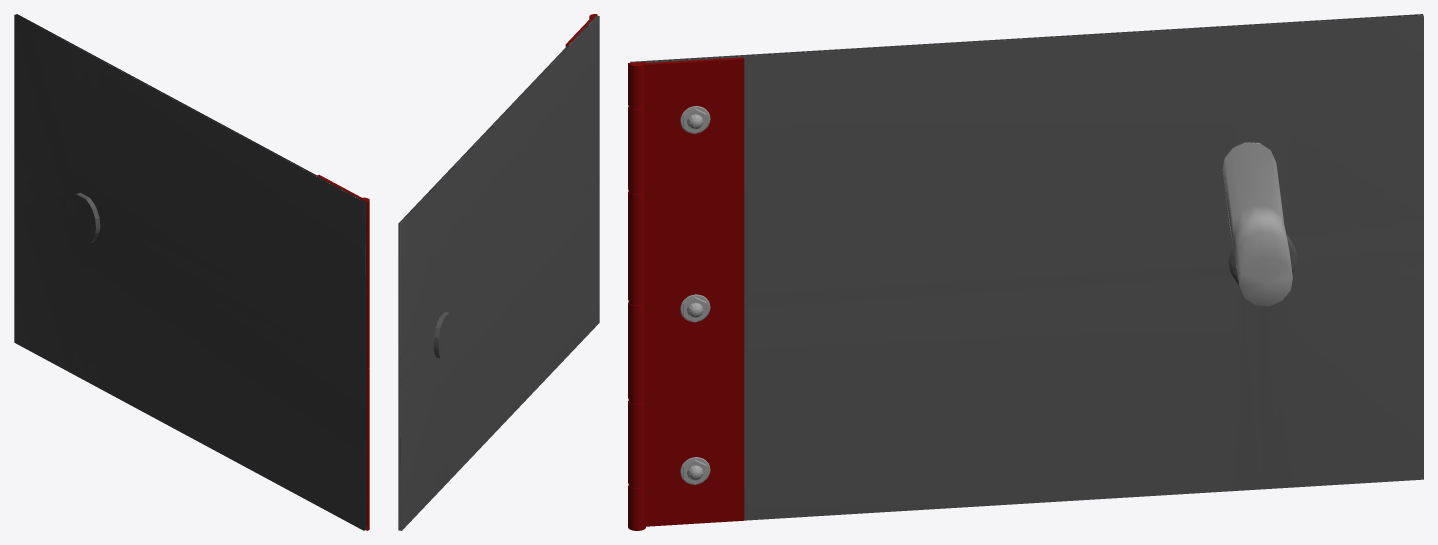
Rendered from cabinet_door.fbx.
3 renders of one model, left to right at view 1: azimuth 30°, elevation 25°; view 2: azimuth 150°, elevation 25°; view 3: azimuth 270°, elevation 25°, orthographic. The views are drawn at different scales.
Parts seen in each view (by area): view 1: door, pCylinder1; view 2: door; view 3: door, pCube2, latch, pCylinder1.
Boxes of the visible parts, x1,y1,x2,y2 form: door: (14, 14, 366, 530); pCylinder1: (359, 197, 369, 530); door: (398, 15, 599, 530); door: (630, 14, 1423, 520); pCube2: (644, 57, 744, 526); latch: (1222, 142, 1292, 306); pCylinder1: (628, 62, 645, 530).
Size of the model in its own units: 0.3407 by 1.39 by 2.16.
